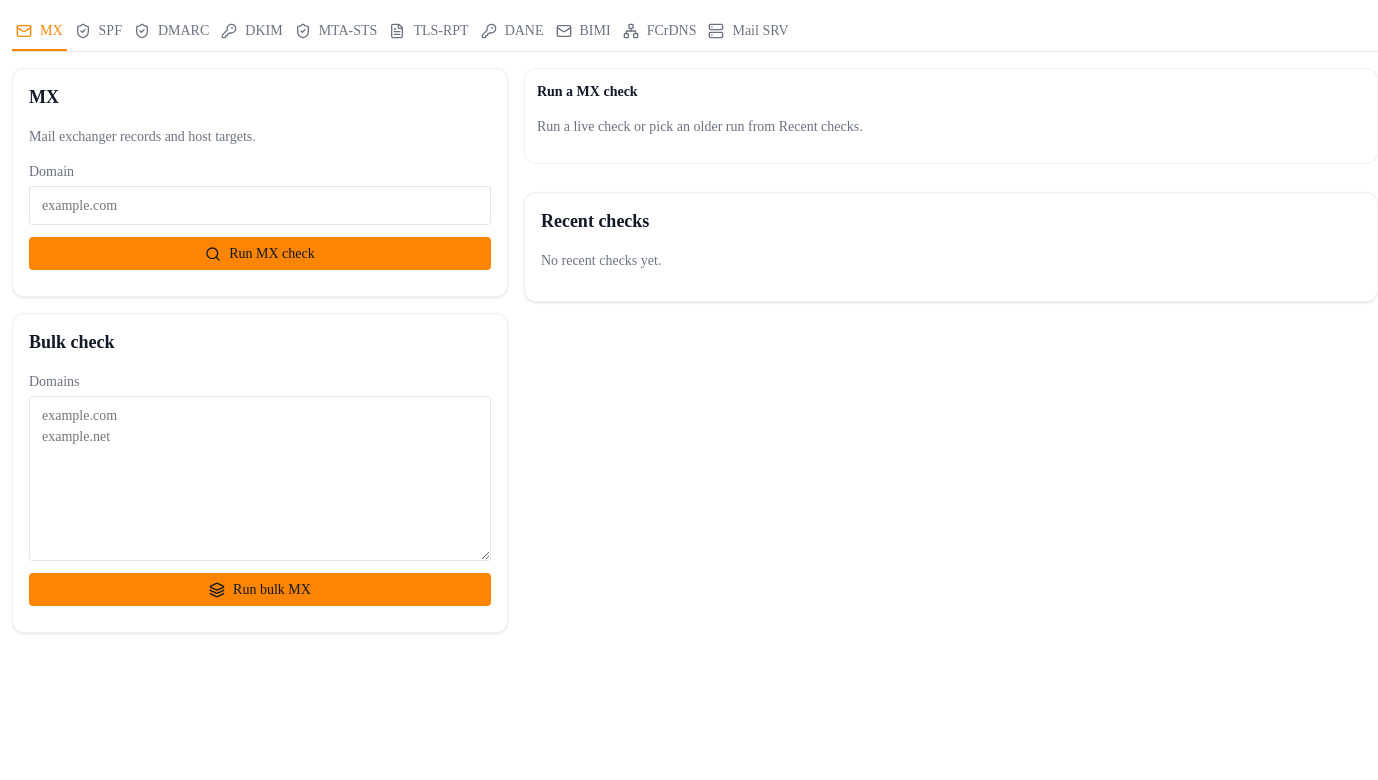
Test case: compact inspector results › keeps bulk data in a responsive semantic table without changing raw tokens
The image size is (1378, 780).
In the text box labelled "Domains": (260, 479) [29,396,491,561], type "EXAMPLE.com"
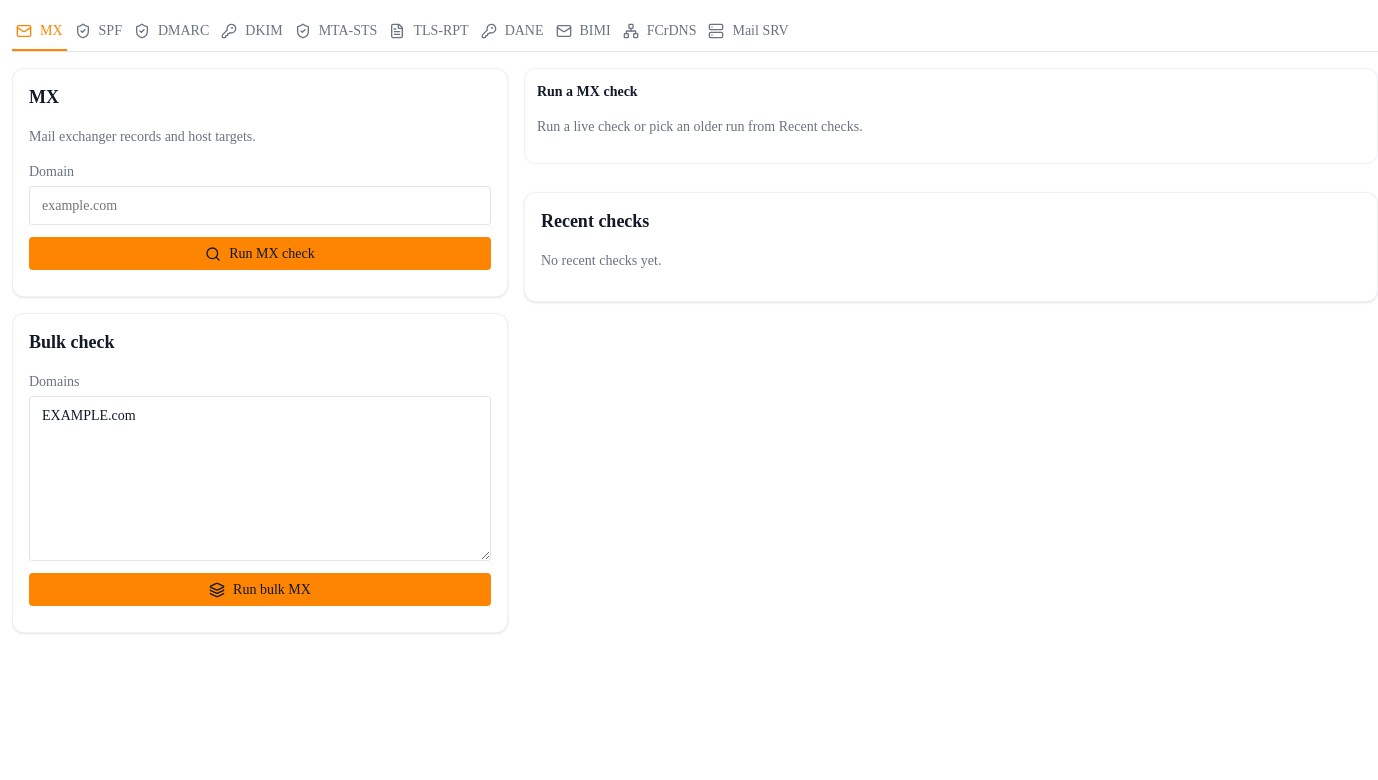
Click the button "Run bulk MX": (260, 590) [29,573,491,606]
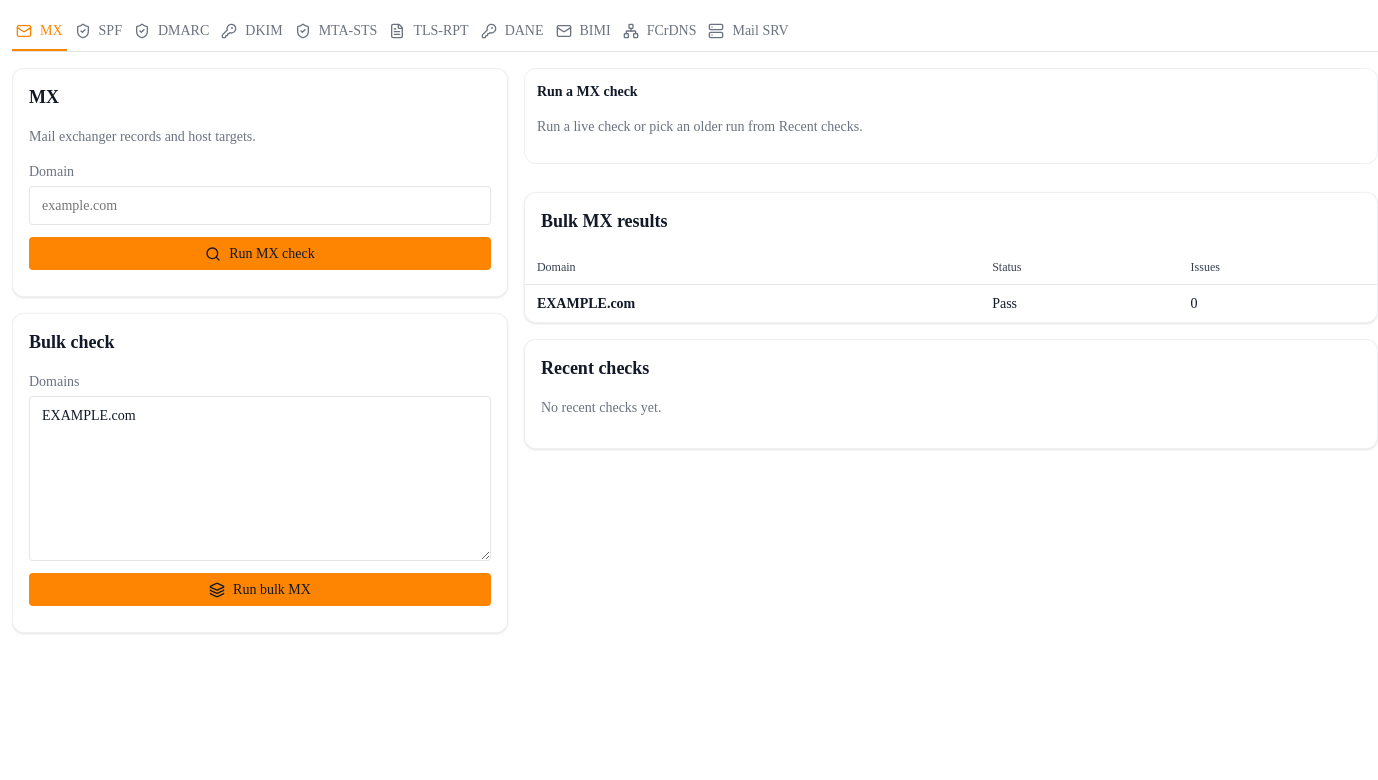
Expected: the element showing "Domain Status Issues EXAMPLE.com Pass 0" is shown, [525,250,1377,322]
Expected: the column heading "Domain" is shown, [525,250,980,285]
Expected: the column heading "EXAMPLE.com" is shown, [525,285,980,322]
